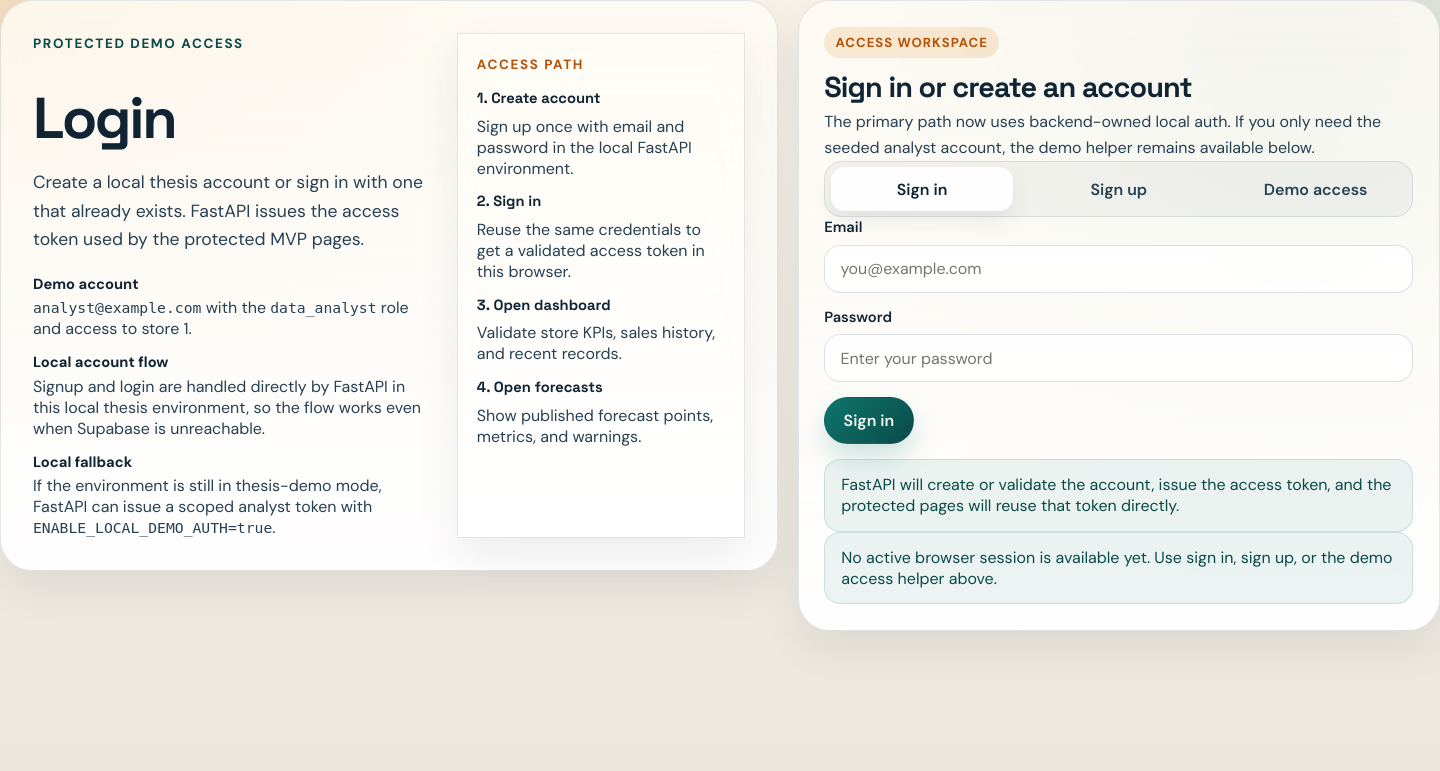
Scenario: LoginPage › stores the local demo token, validates it, and reveals protected page links
Click the button with aria-label "Switch to demo access" at x=1316, y=189, box [1224, 167, 1407, 211]
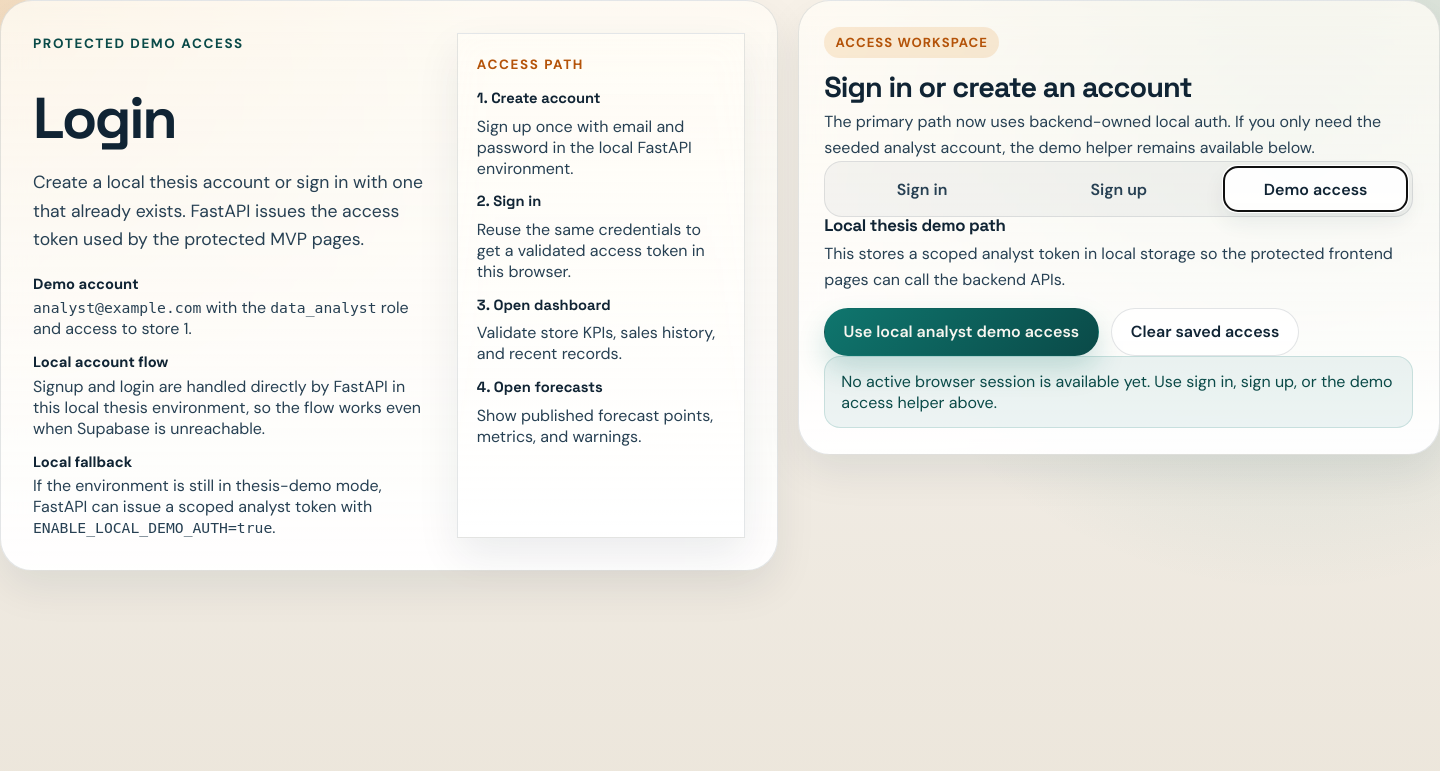
Click the button "Use local analyst demo access" at x=961, y=332, box [824, 308, 1098, 356]
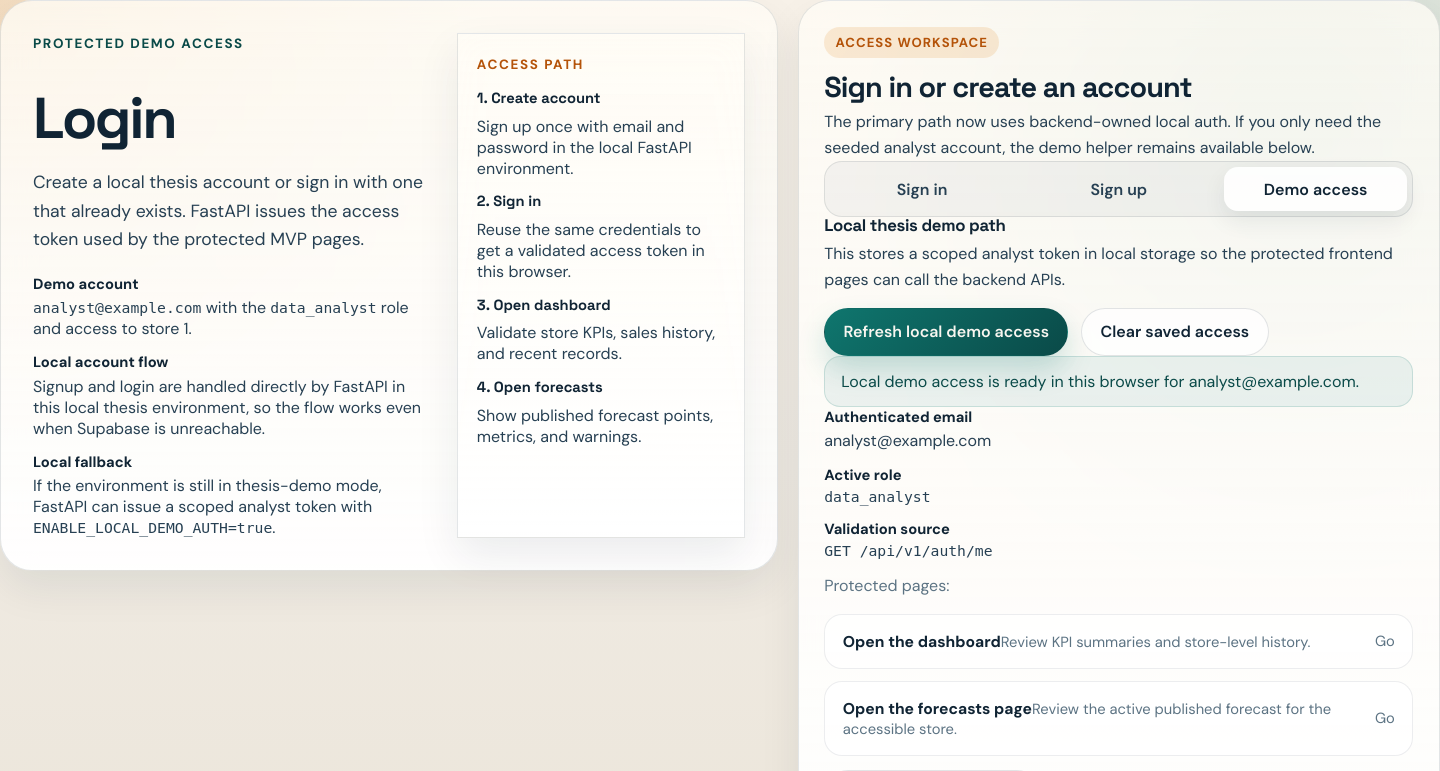
Check: the text "Local demo access is ready in this browser for analyst@example.com" is shown, box [841, 371, 1359, 392]
Check: the text "Authenticated email" is shown, box [824, 407, 972, 427]
Check: the link "Open the dashboard" is shown, box [824, 614, 1413, 669]
